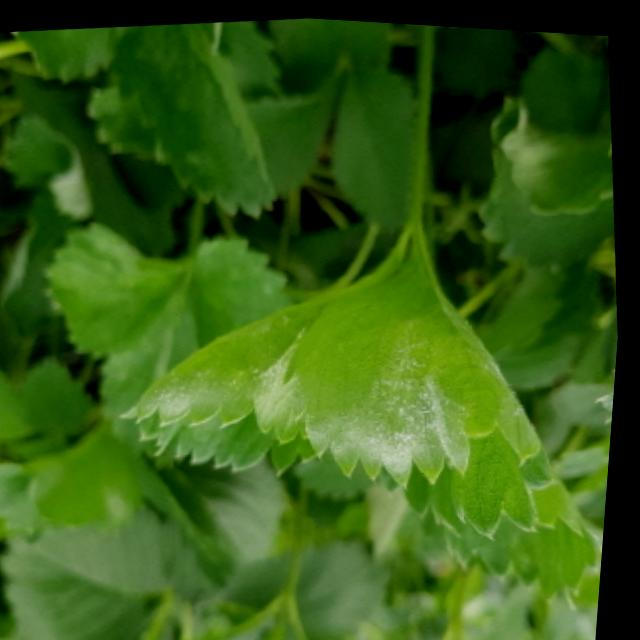Powdery Mildew Leaf: (287, 224, 548, 483), (121, 284, 345, 474)
